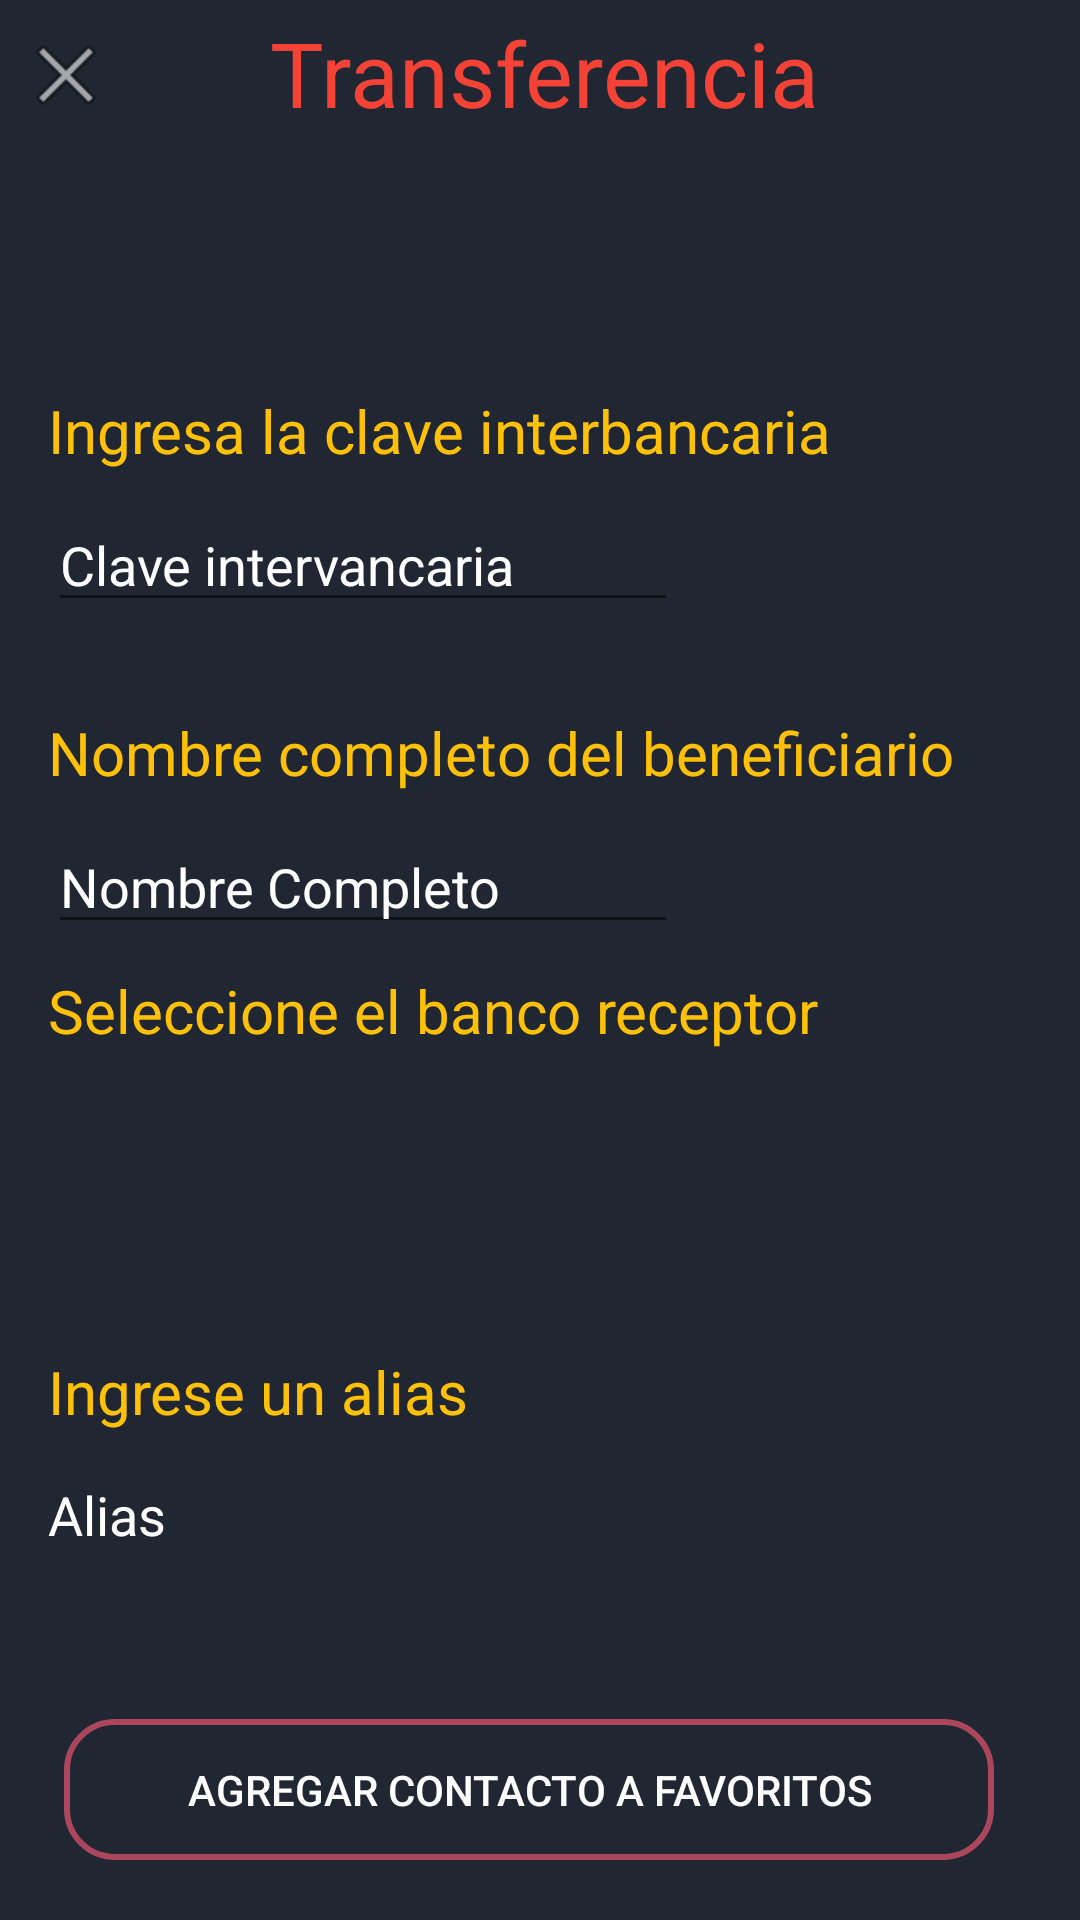

Icons on this 1080px x 1920px Android screen, each with the point to tap as (x=x, y=y):
close clear cancel: (x=66, y=75)
